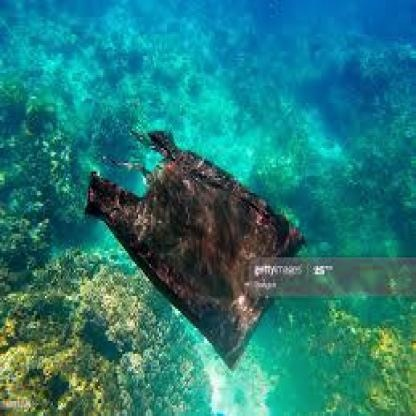pbag: (83, 129, 307, 371)
